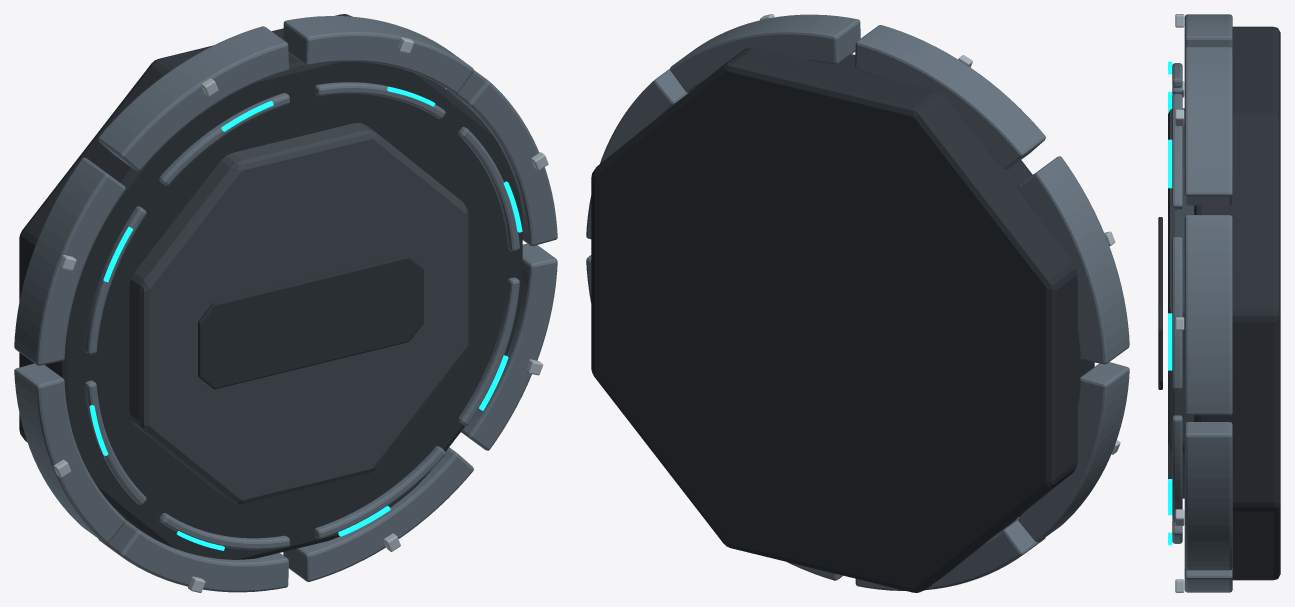
Rendered from FZH_Capability_Core.glb.
3 renders of one model, left to right at view 1: azimuth 30°, elevation 25°; view 2: azimuth 150°, elevation 25°; view 3: azimuth 270°, elevation 25°, orthographic. The views are drawn at different scales.
Visible parts, largest first — view 1: Processor_Floating_Die, Category_Core_Frame, Category_Core_Body, Category_Label_Surface, Core_Signal_Channels, Detail_Core_Fasteners; view 2: Category_Core_Body, Category_Core_Frame; view 3: Category_Core_Frame, Category_Core_Body, Processor_Floating_Die, Core_Signal_Channels, Category_Label_Surface, Detail_Core_Fasteners.
Part boxes in pixels (x1=…): Processor_Floating_Die: x1=129, y1=123, x2=468, y2=504; Category_Core_Frame: x1=14, y1=16, x2=557, y2=592; Category_Core_Body: x1=19, y1=14, x2=522, y2=559; Category_Label_Surface: x1=198, y1=255, x2=423, y2=389; Core_Signal_Channels: x1=89, y1=86, x2=522, y2=550; Detail_Core_Fasteners: x1=53, y1=37, x2=548, y2=592; Category_Core_Body: x1=591, y1=47, x2=1094, y2=592; Category_Core_Frame: x1=586, y1=14, x2=1129, y2=590; Category_Core_Frame: x1=1172, y1=14, x2=1232, y2=592; Category_Core_Body: x1=1194, y1=26, x2=1280, y2=580; Processor_Floating_Die: x1=1168, y1=108, x2=1194, y2=498; Core_Signal_Channels: x1=1168, y1=61, x2=1172, y2=545; Category_Label_Surface: x1=1158, y1=217, x2=1162, y2=389; Detail_Core_Fasteners: x1=1175, y1=14, x2=1184, y2=592.
Bounding box in the file's own units: 1.2 × 1.2 × 0.255.
